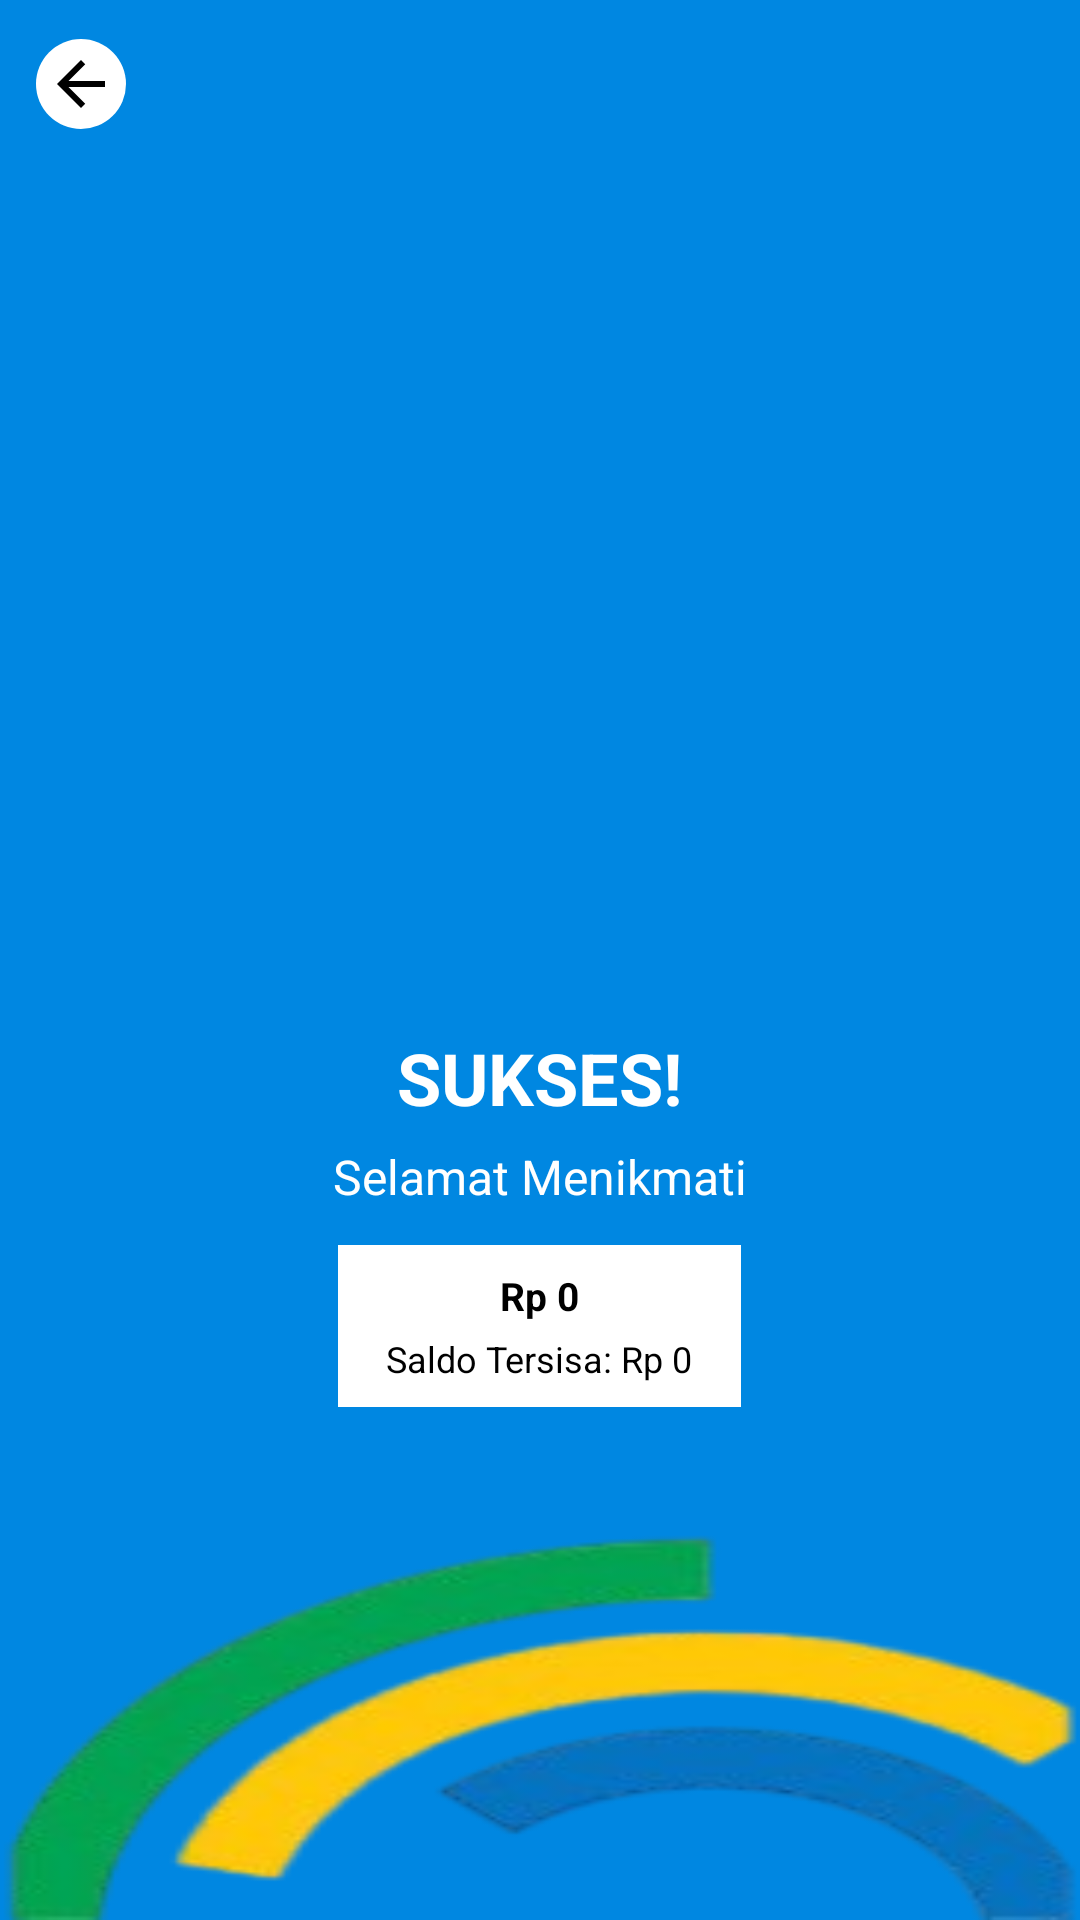

Where icons sit on this 1080*1920 app screen, as (x1, y1, x2, y2):
Tombol Kembali: (36, 39, 126, 129)
